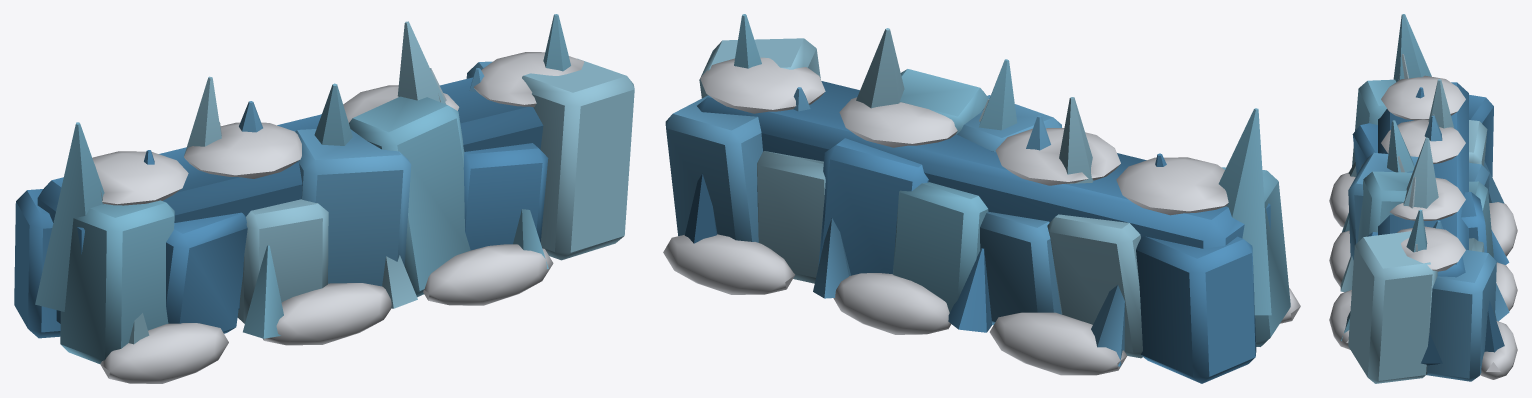
File: x_barrier_frost.glb
The picture shows the model from 3 angles, left to right: view 1: azimuth 30°, elevation 25°; view 2: azimuth 150°, elevation 25°; view 3: azimuth 270°, elevation 25°; orthographic projection. The views are drawn at different scales.
Parts seen in each view (by area): view 1: body; view 2: body; view 3: body.
Part boxes in pixels (x1,y1,x2,y2): body: (14,14,634,383); body: (663,14,1300,383); body: (1329,14,1517,383).
Size of the model in its own units: 8.25 by 3.46 by 3.1.
